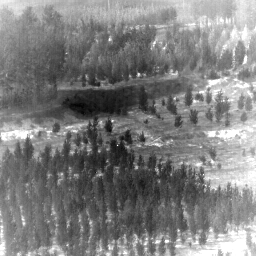aircraft: (116, 144, 118, 146)
